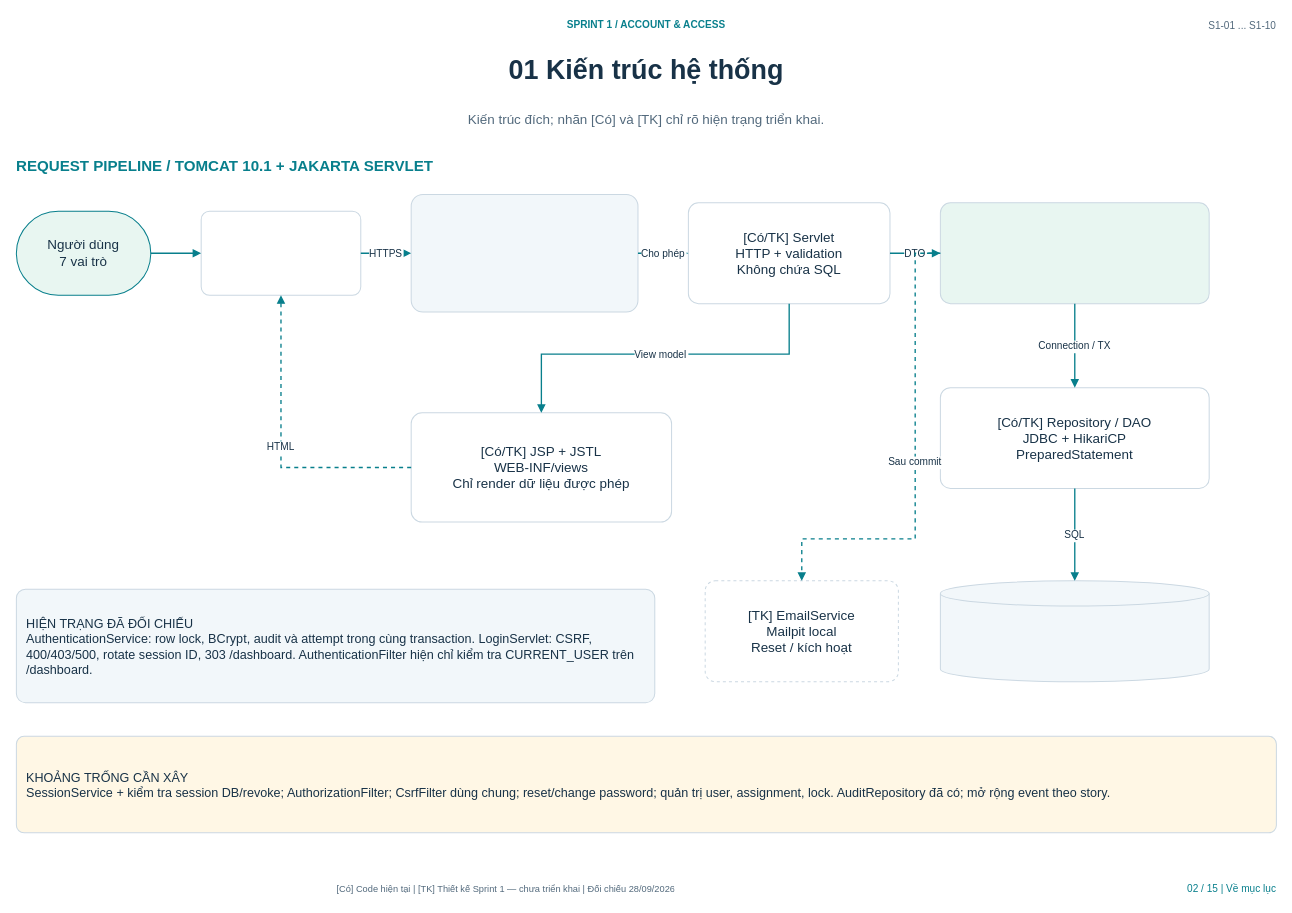
Some shapes in this 1292 by 913 pixel diagram are drawn without their labels. The shapes that lost their labels are listed below. From the top down, each one's box as (x1, y1, x2, y2) in pixels, then its label:
(200, 210, 361, 295): [Có] Browser JSP + CSS + JS
(410, 194, 638, 312): [Có/TK] Filters Encoding / Headers AuthN / AuthZ / CSRF
(939, 202, 1209, 304): [Có/TK] Service Nghiệp vụ Transaction boundary
(939, 580, 1209, 682): [Có/TK] MySQL 8.4 8 bảng đã có 6 bảng cần bổ sung
